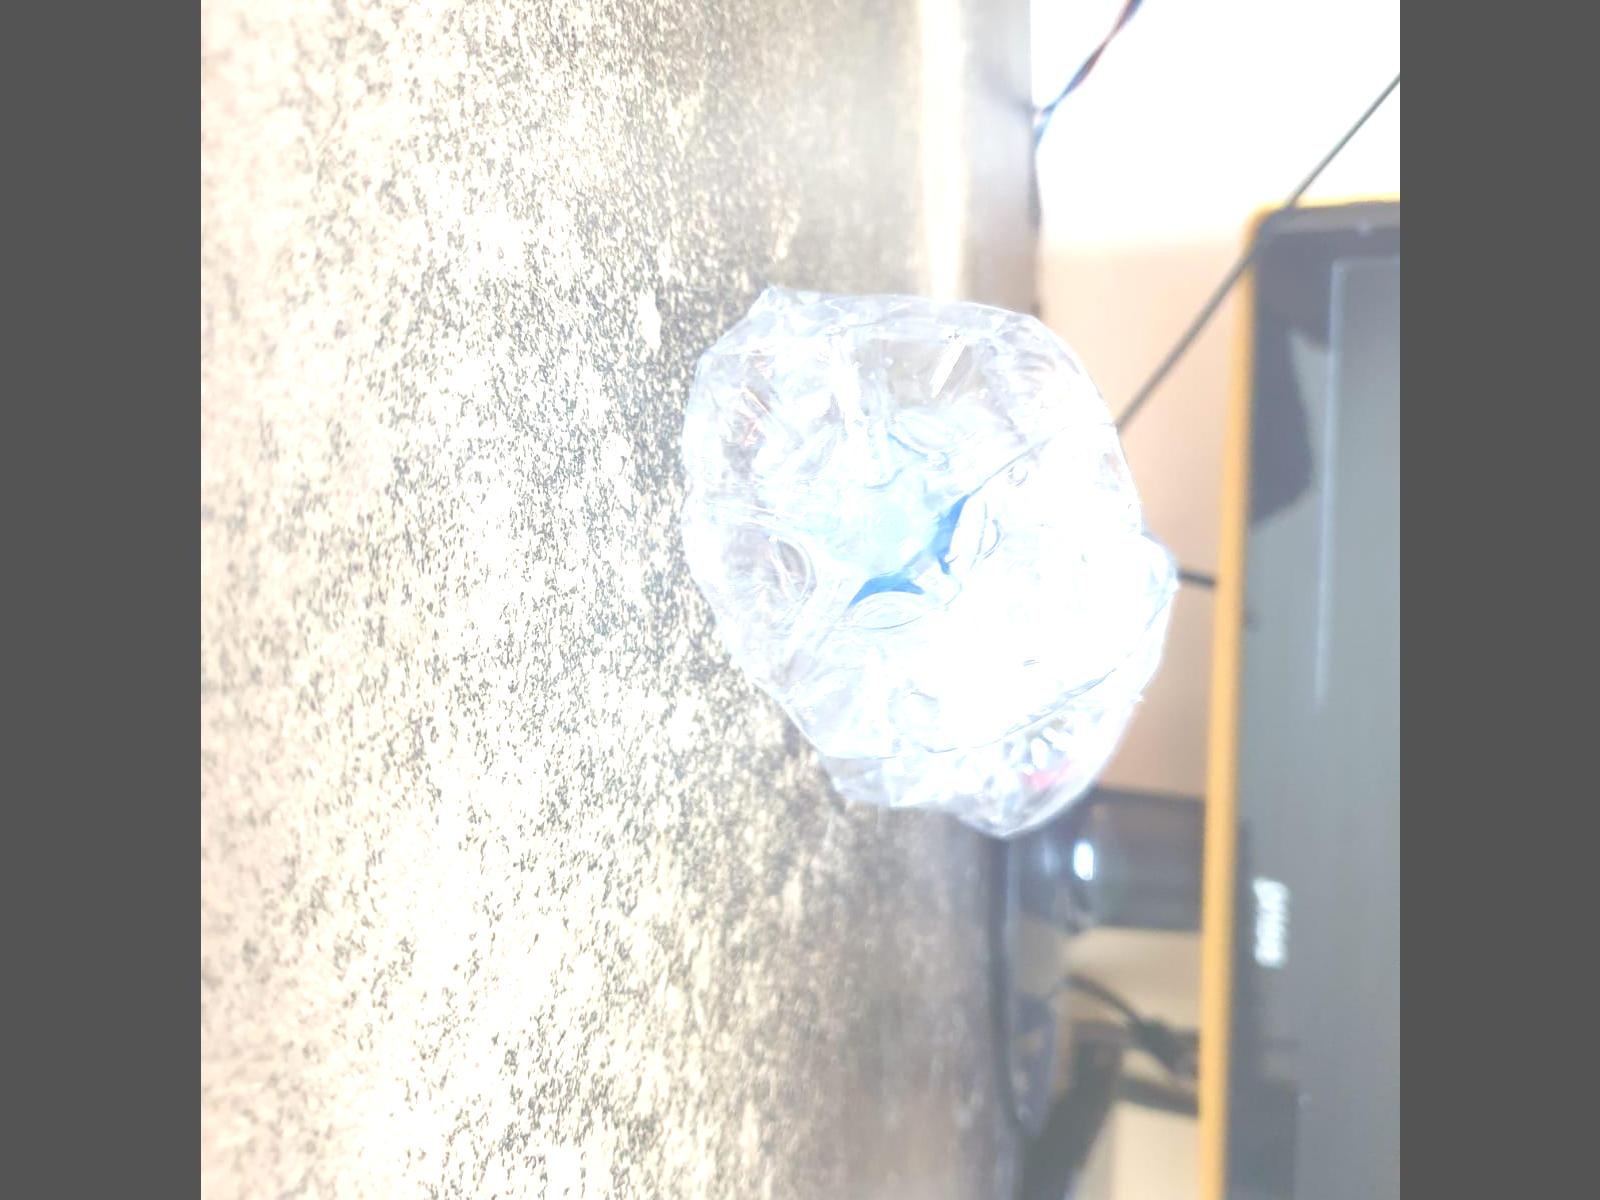bottle: (669, 274, 1173, 829)
